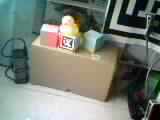duck: (57, 11, 84, 38)
